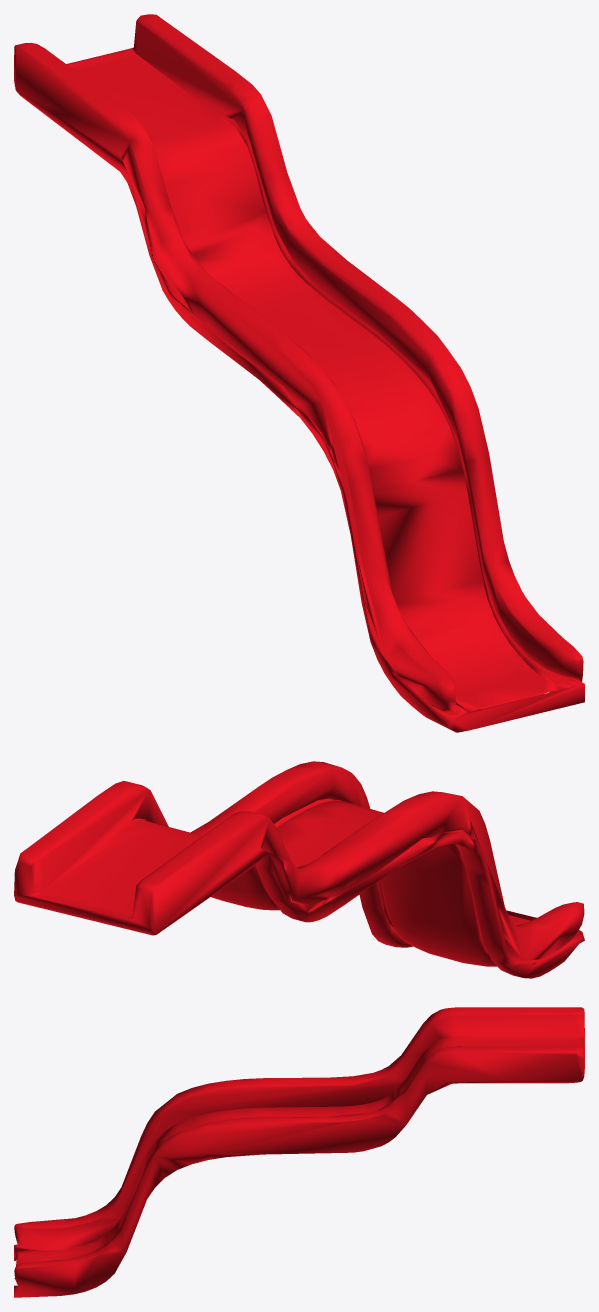
File: slide.glb
3 views of the same model, one above another, from view 1: azimuth 30°, elevation 25°; view 2: azimuth 150°, elevation 25°; view 3: azimuth 270°, elevation 25° (orthographic). The views are drawn at different scales.
Visible parts, largest first — view 1: Object_4; view 2: Object_4; view 3: Object_4.
Part boxes in pixels (bbox=[...]): Object_4: bbox=[14, 14, 584, 732]; Object_4: bbox=[14, 761, 584, 978]; Object_4: bbox=[14, 1007, 584, 1297].
Bounding box in the file's own units: 0.7368 × 1.9 × 3.98.
